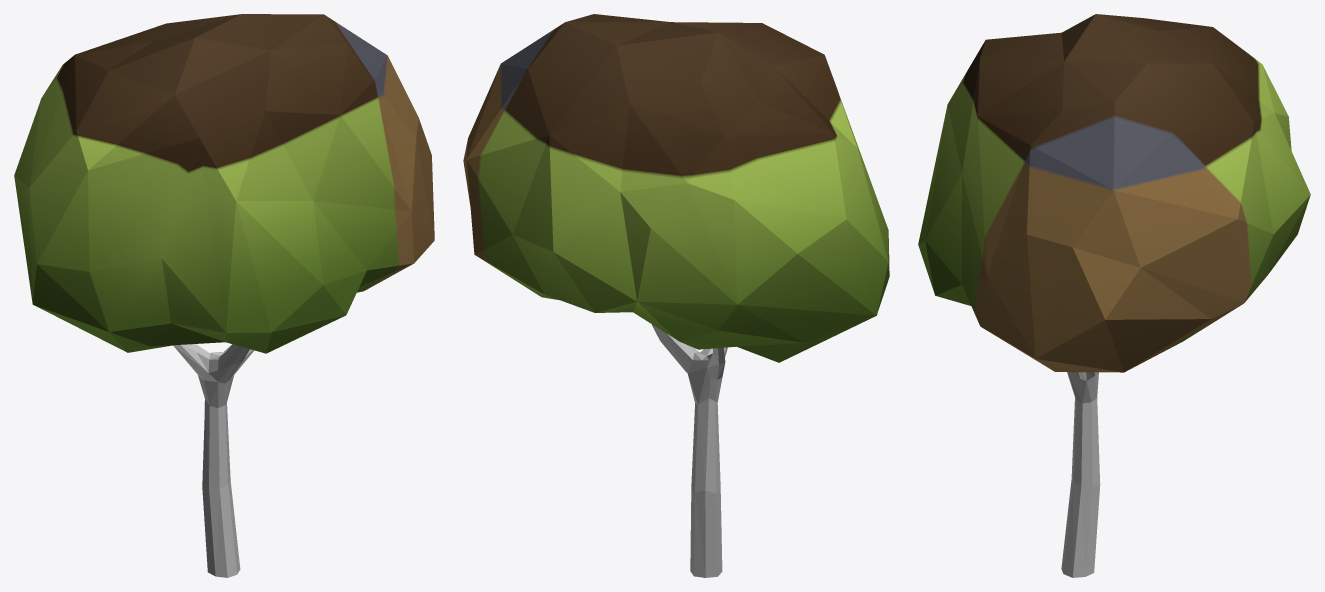
File: Tree_08.fbx
3 views of the same model, side by side, from view 1: azimuth 30°, elevation 25°; view 2: azimuth 150°, elevation 25°; view 3: azimuth 270°, elevation 25° (orthographic). The views are drawn at different scales.
Visible parts, largest first — view 1: Tree_08; view 2: Tree_08; view 3: Tree_08.
Boxes of the visible parts, left/top/right/bottom form: Tree_08: left=14, top=14, right=434, bottom=577; Tree_08: left=463, top=14, right=889, bottom=577; Tree_08: left=918, top=14, right=1310, bottom=577.
Size of the model in its own units: 3.99 by 5.03 by 3.28.
